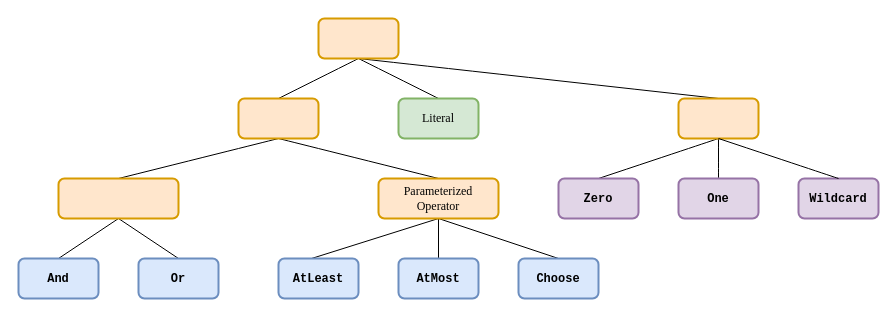
Image size: 896x316. Some labels were removed from this diagram. Each missing label, with the box of its shape:
Operator: (237, 97, 319, 139)
Rule: (317, 17, 399, 59)
Trivial: (677, 97, 759, 139)
Unparameterized Operator: (57, 177, 179, 219)
